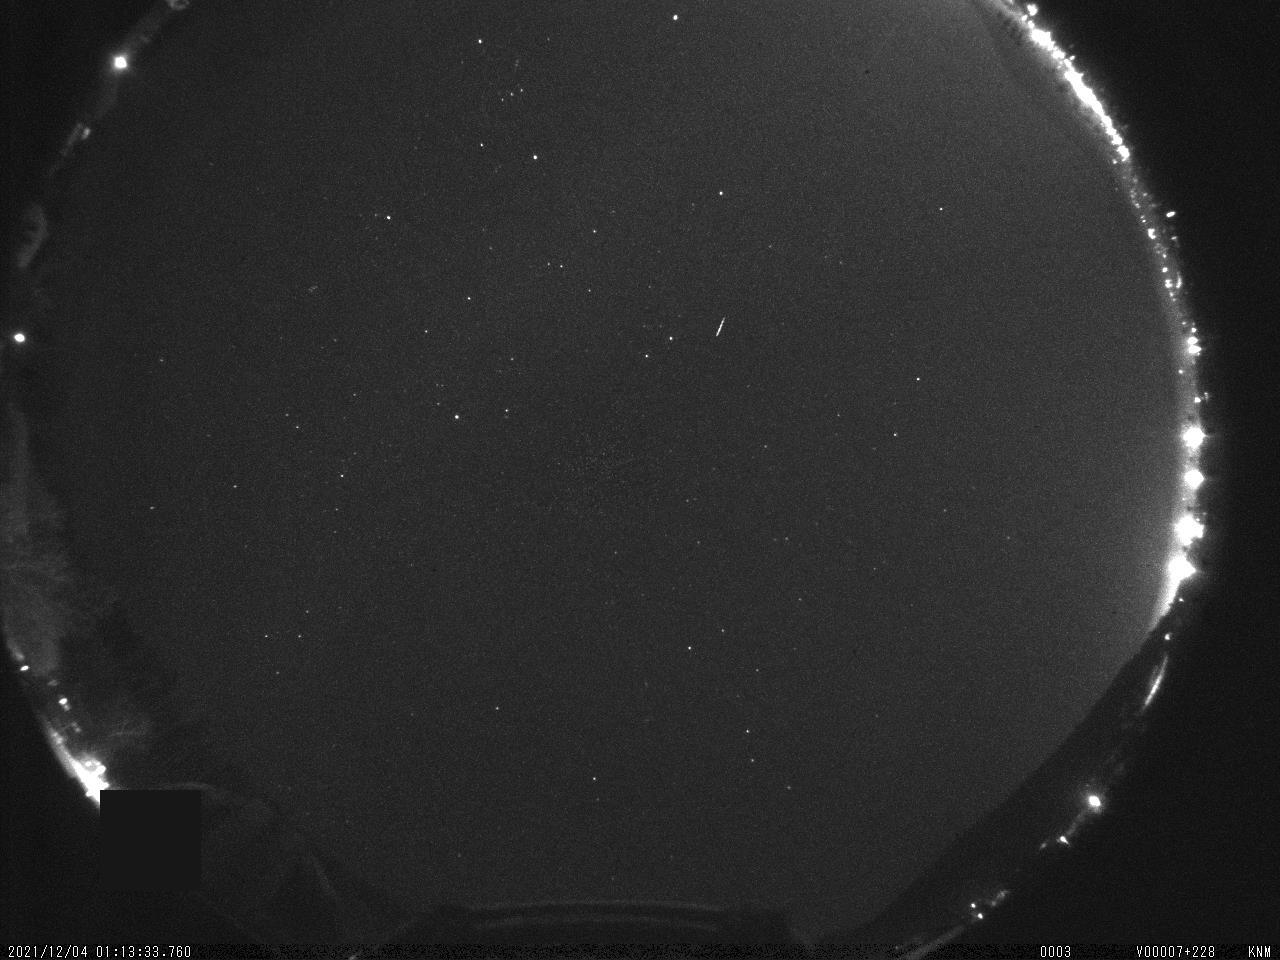meteor: (696, 291, 770, 353)
